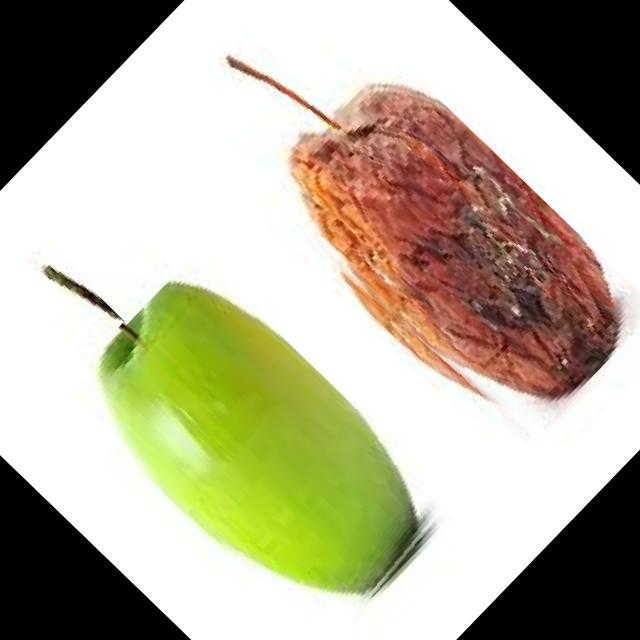Organic: (190, 0, 640, 454), (62, 252, 462, 640), (218, 33, 336, 149), (31, 250, 124, 342)
